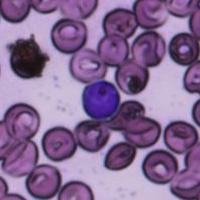L: (82, 79, 120, 121)
